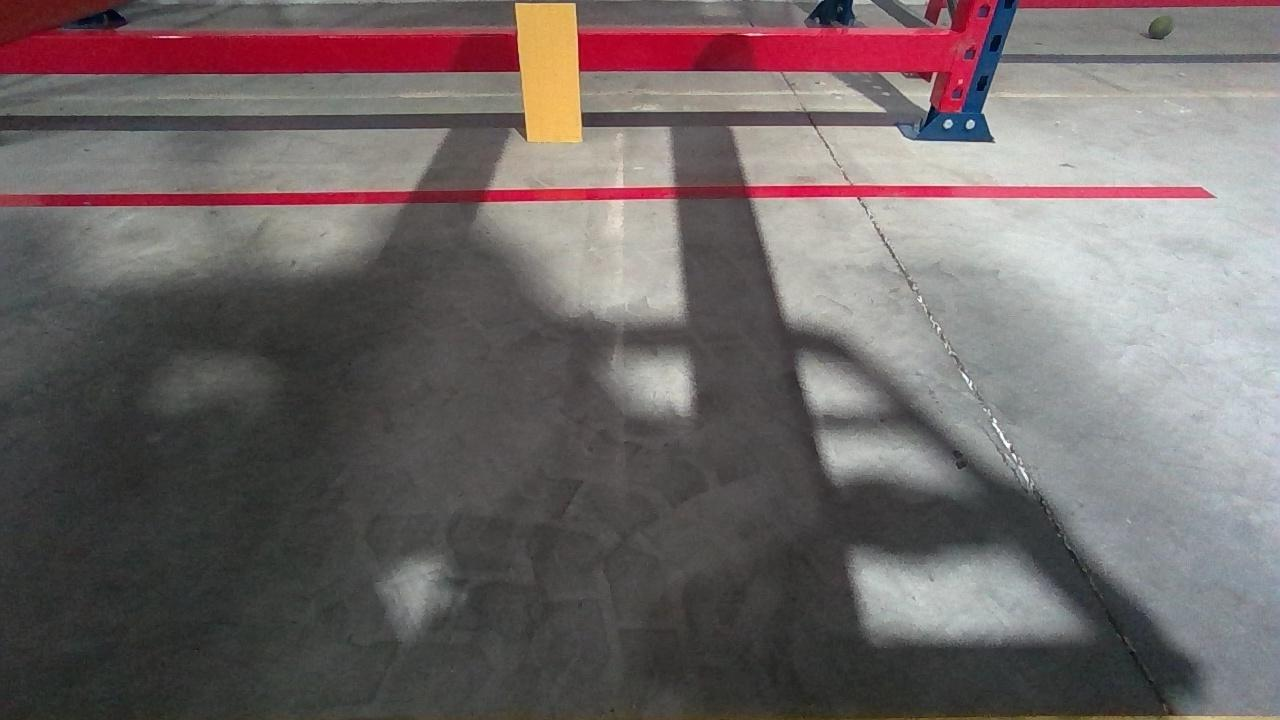h_rack: (0, 30, 970, 67)
orange_strip: (515, 3, 582, 140)
red_line: (0, 183, 1211, 200)
